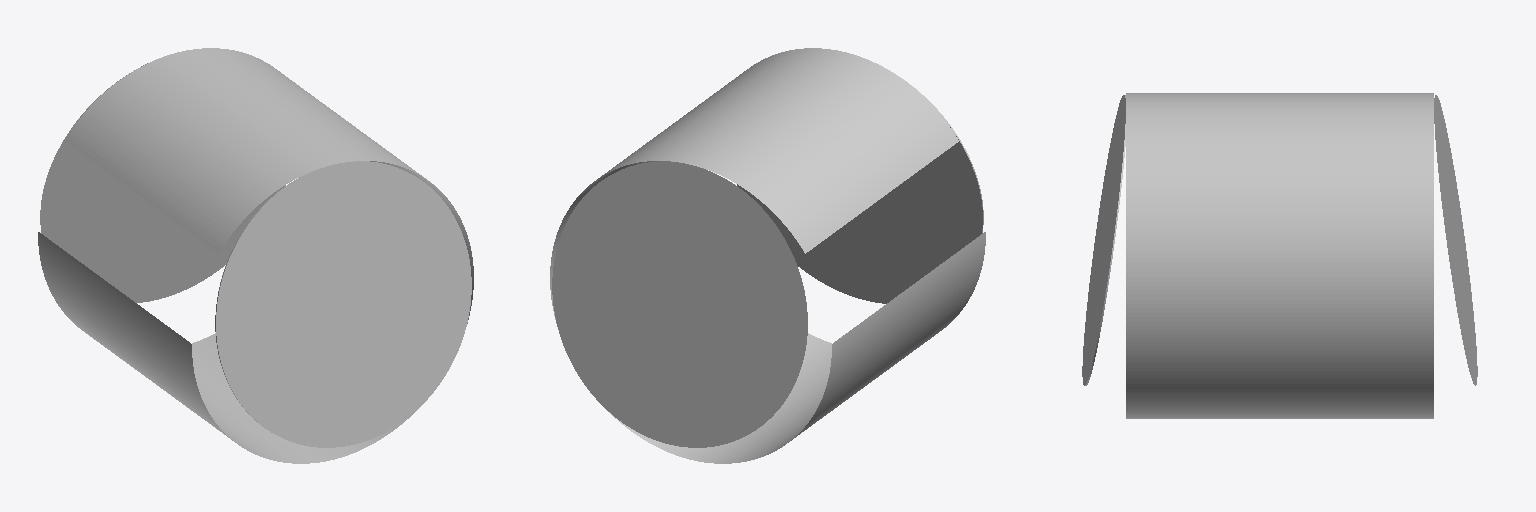
File: plane bend81.obj
3 renders of one model, left to right at view 1: azimuth 30°, elevation 25°; view 2: azimuth 150°, elevation 25°; view 3: azimuth 270°, elevation 25°, orthographic.
Parts seen in each view (by area): view 1: Circle, Plane, Circle.001; view 2: Circle.001, Plane, Circle; view 3: Plane, Circle, Circle.001.
Part boxes in pixels (bbox=[...]): Circle: bbox=[215, 161, 471, 447]; Plane: bbox=[38, 48, 473, 463]; Circle.001: bbox=[40, 63, 285, 302]; Circle.001: bbox=[552, 161, 807, 447]; Plane: bbox=[550, 48, 985, 463]; Circle: bbox=[737, 52, 983, 303]; Plane: bbox=[1126, 93, 1433, 418]; Circle: bbox=[1082, 95, 1125, 385]; Circle.001: bbox=[1434, 95, 1477, 385].
Size of the model in its own units: 2.11 by 2.11 by 2.57.